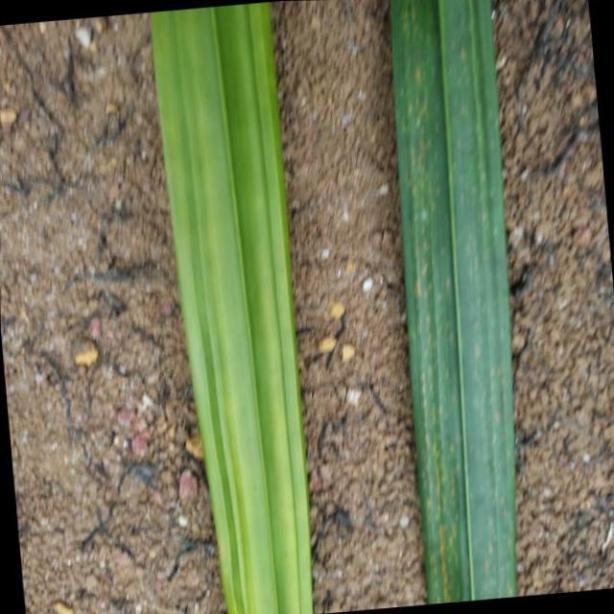nitrogen: (149, 0, 310, 614), (387, 0, 515, 614)
